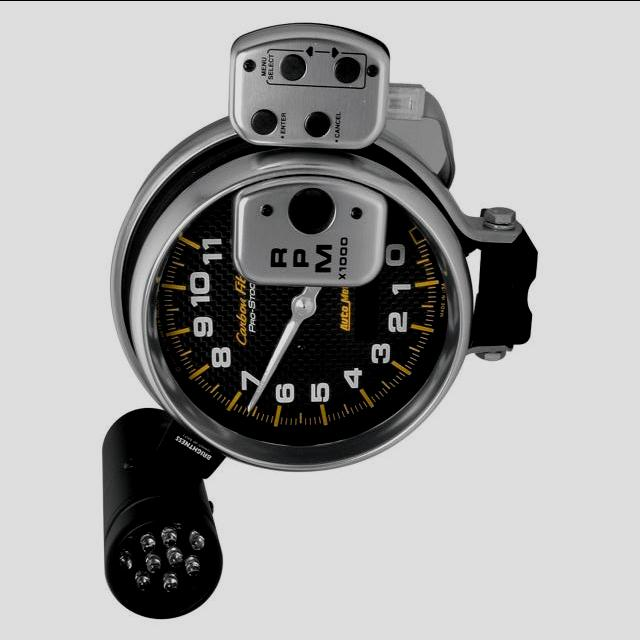Needle_Tip: (239, 381, 278, 434)
Needle_base: (284, 274, 327, 346)
max_value: (193, 230, 238, 269)
min_value: (373, 233, 420, 287)
